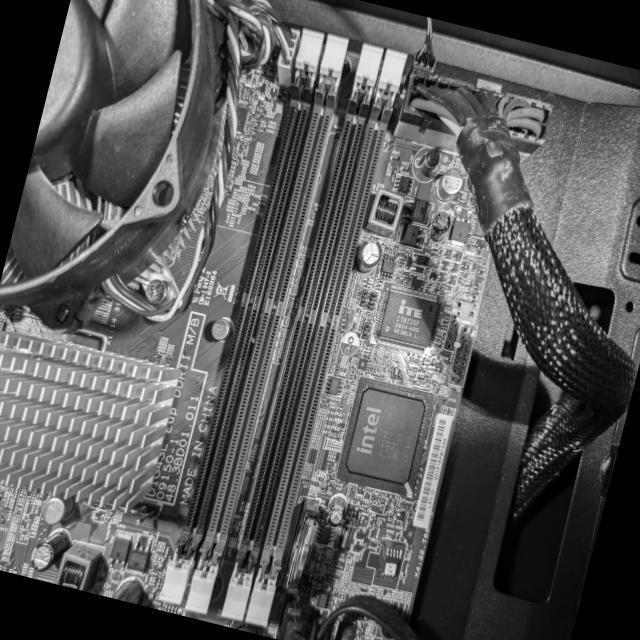CPU_Fan: (0, 0, 267, 349)
Mainboard: (0, 0, 542, 640)
